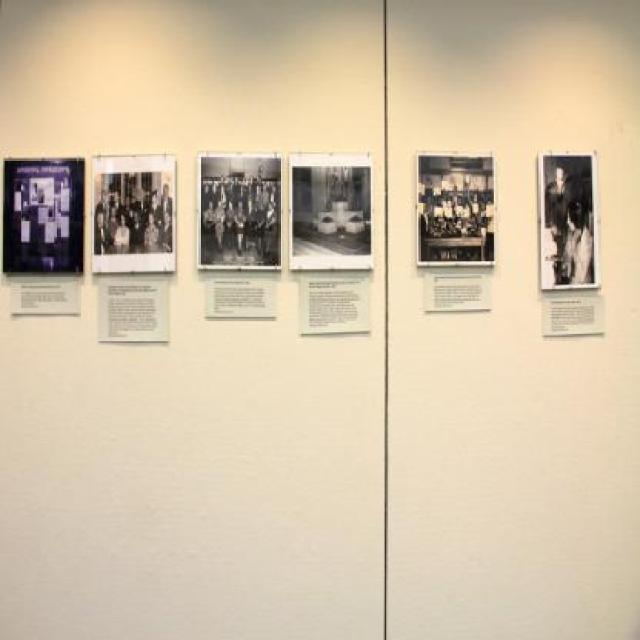Person: (202, 173, 280, 259), (94, 182, 174, 252), (427, 184, 485, 250), (564, 199, 594, 283), (543, 167, 577, 241), (29, 182, 38, 202)
